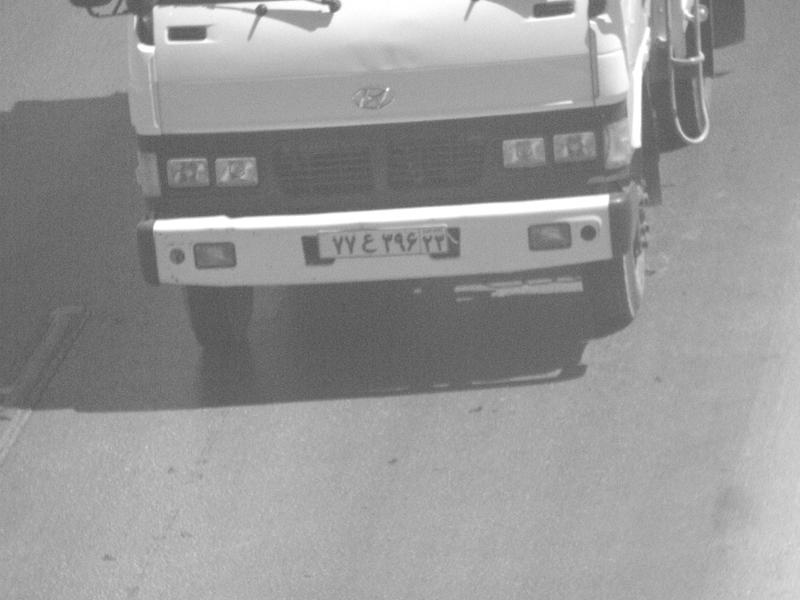Plate: (317, 231, 450, 259)
